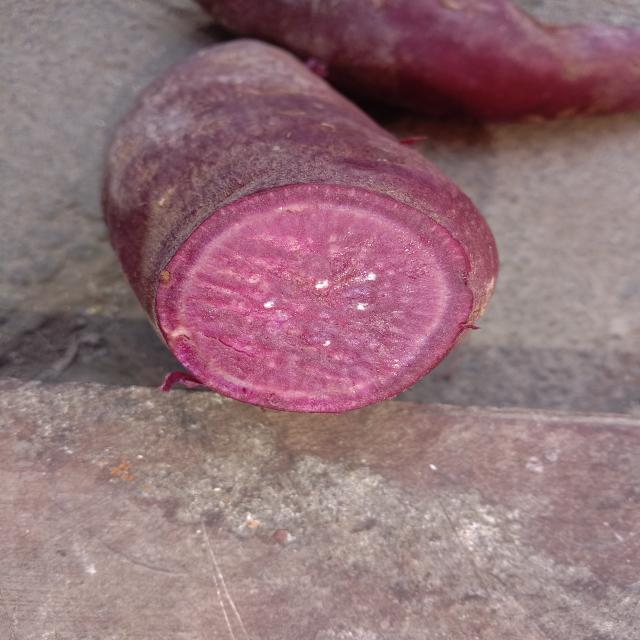Healthy Sweet Potato: (155, 184, 473, 412)
